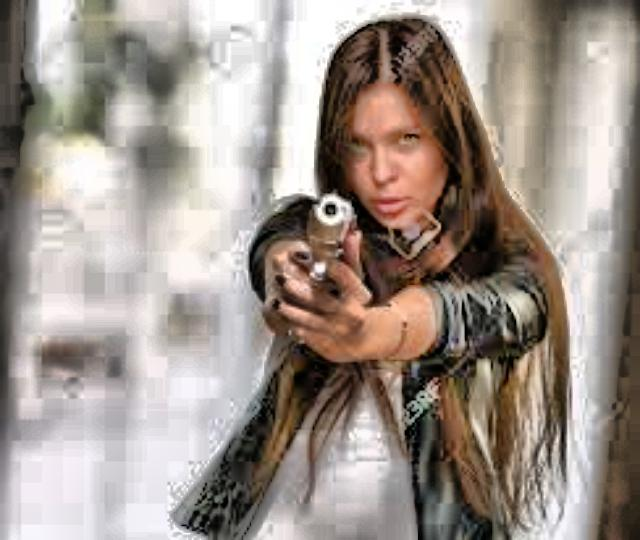pistol: (307, 186, 367, 310)
